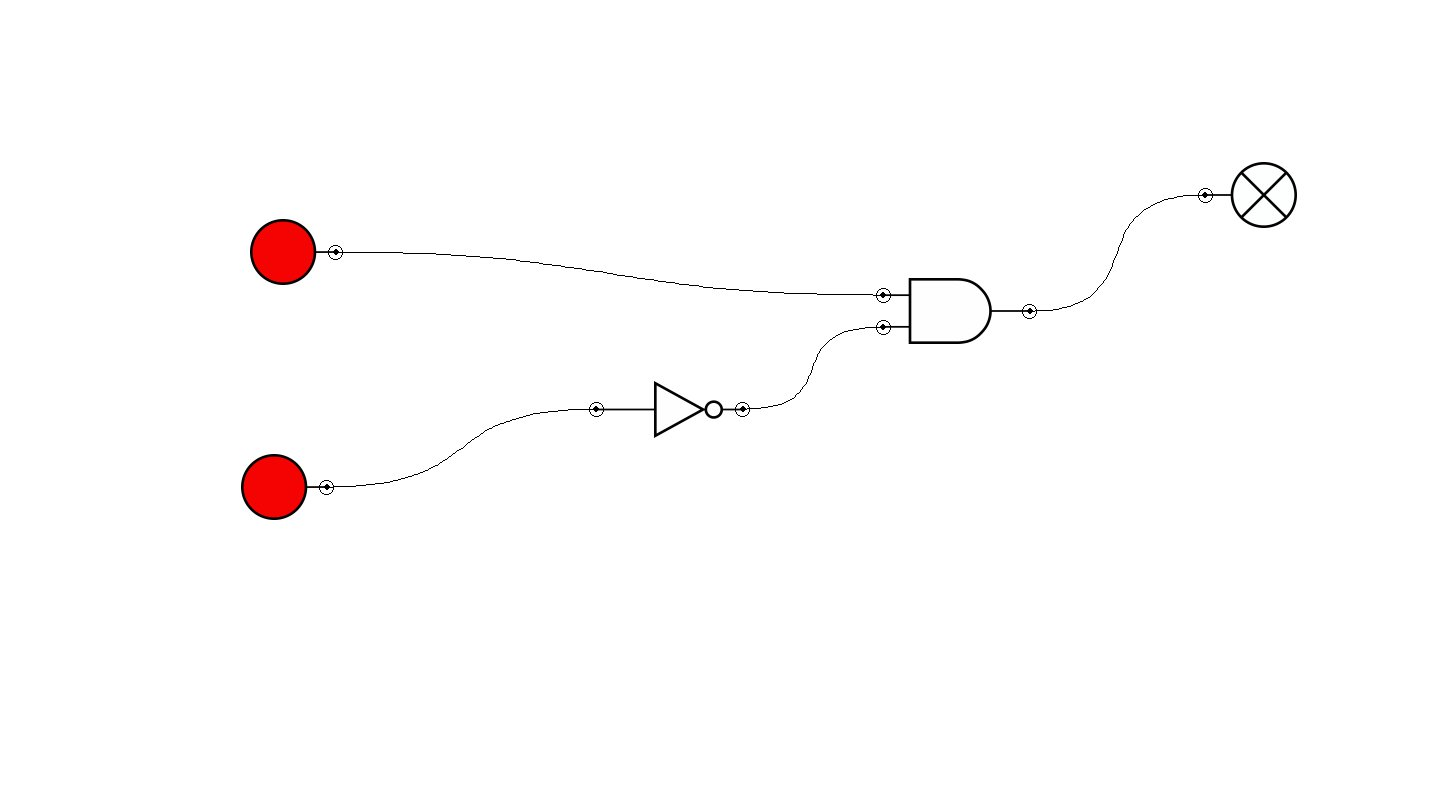and: (876, 278, 1037, 344)
bulb: (1198, 162, 1297, 228)
not: (589, 381, 750, 438)
switch_False: (250, 219, 343, 285), (241, 454, 334, 520)
